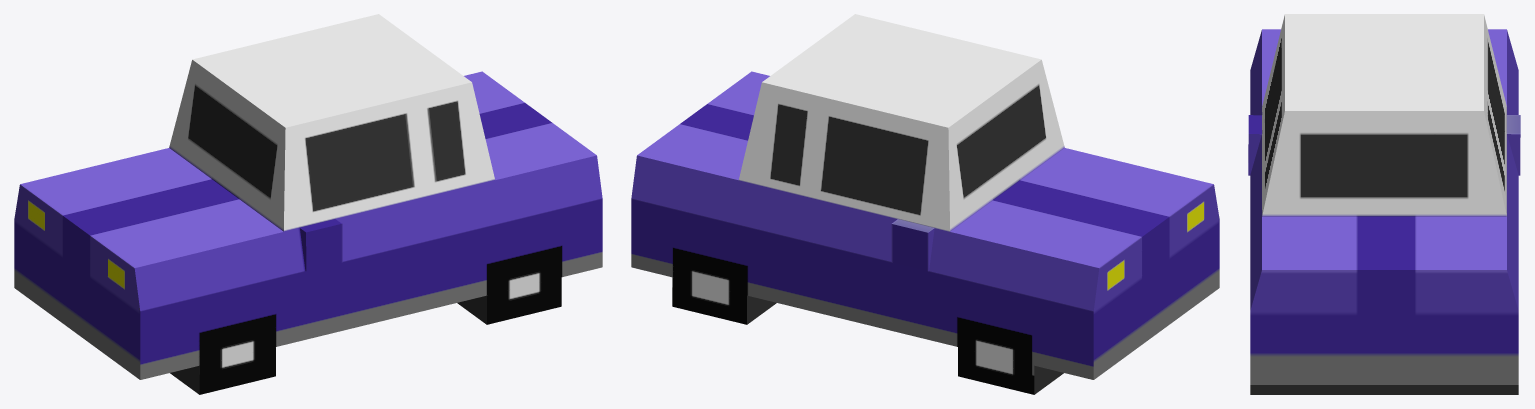
The model's file is PixelArt_Car1.FBX.
3 views of the same model, side by side, from view 1: azimuth 30°, elevation 25°; view 2: azimuth 150°, elevation 25°; view 3: azimuth 270°, elevation 25° (orthographic). The views are drawn at different scales.
Visible parts, largest first — view 1: Car_Sedan1; view 2: Car_Sedan1; view 3: Car_Sedan1.
Part boxes in pixels (x1=…): Car_Sedan1: x1=14, y1=14, x2=602, y2=394; Car_Sedan1: x1=631, y1=14, x2=1219, y2=394; Car_Sedan1: x1=1248, y1=14, x2=1520, y2=394.
Size of the model in its own units: 59.55 by 28.35 by 28.44.
1 material, 1 textured.
